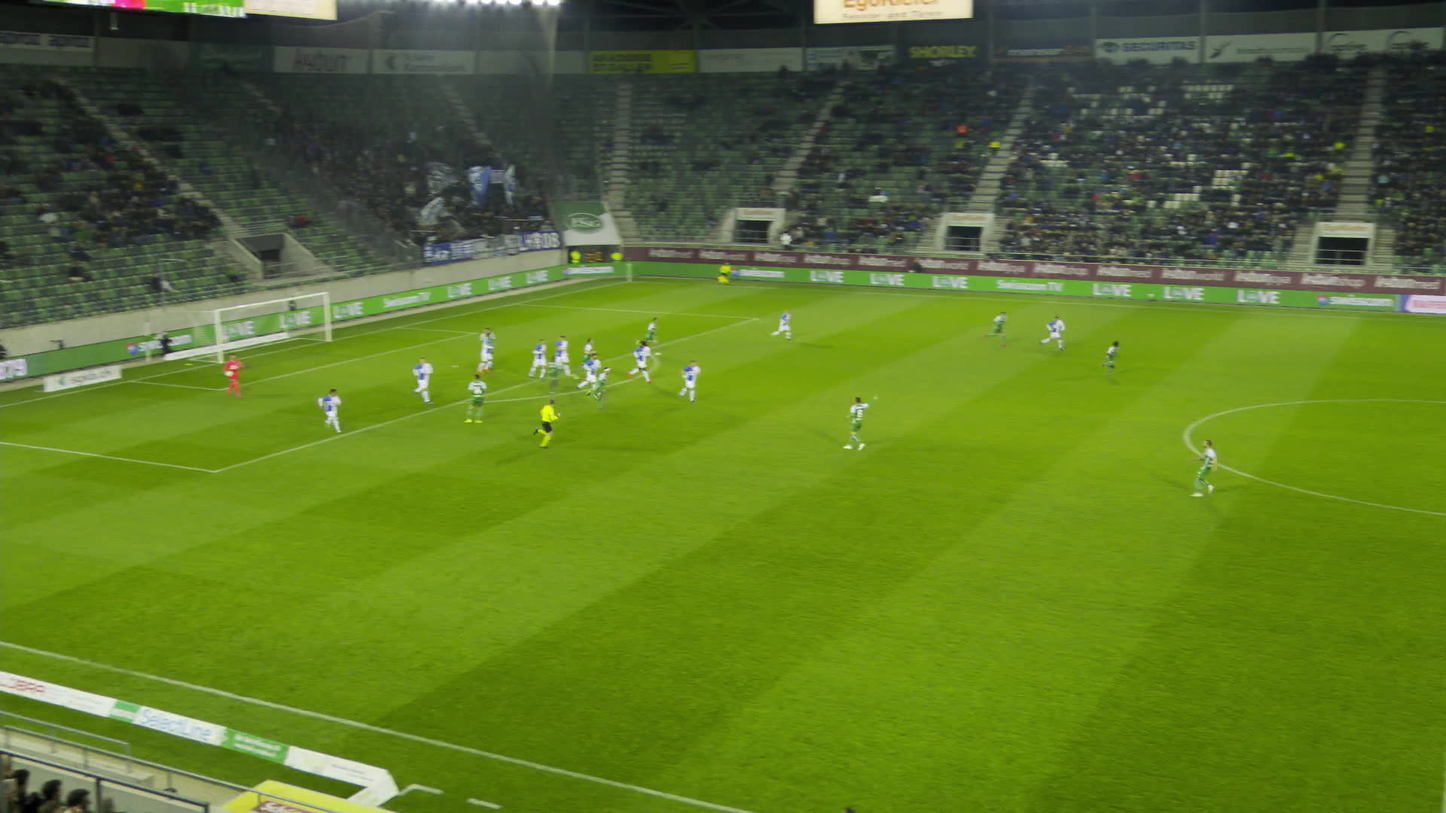ball: (240, 373, 246, 377)
player: (857, 395, 887, 452), (1198, 441, 1226, 498), (475, 375, 502, 425), (588, 367, 618, 410), (230, 355, 255, 397), (1101, 340, 1127, 378), (325, 390, 348, 432), (588, 355, 609, 398), (420, 358, 440, 403), (558, 336, 578, 377), (993, 312, 1017, 346), (581, 339, 599, 379), (644, 343, 662, 383), (691, 362, 709, 402), (1056, 318, 1077, 352), (484, 333, 501, 373), (543, 341, 560, 378), (495, 327, 509, 369), (786, 311, 805, 341), (562, 355, 578, 390), (650, 318, 666, 352)
referee: (535, 397, 570, 449), (733, 263, 744, 286)
